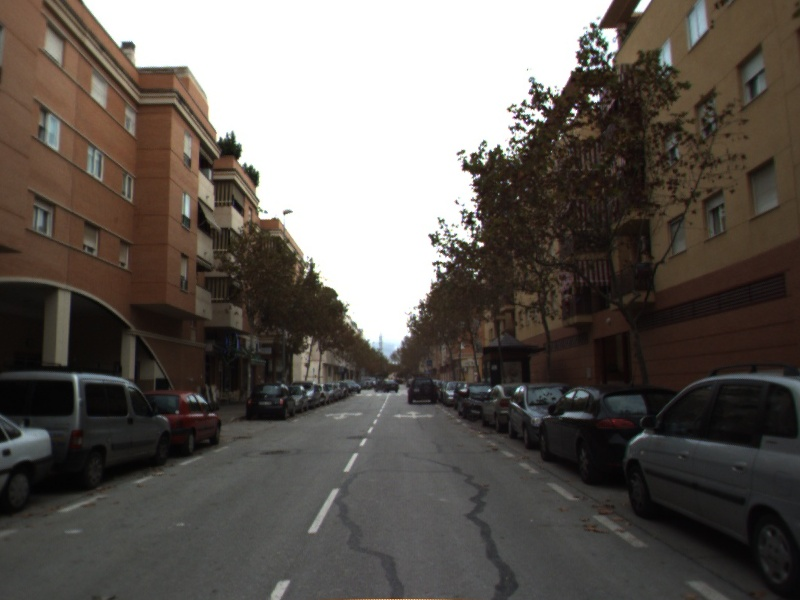STRAIGHT_LEFT_RIGHT: (391, 408, 436, 421)
